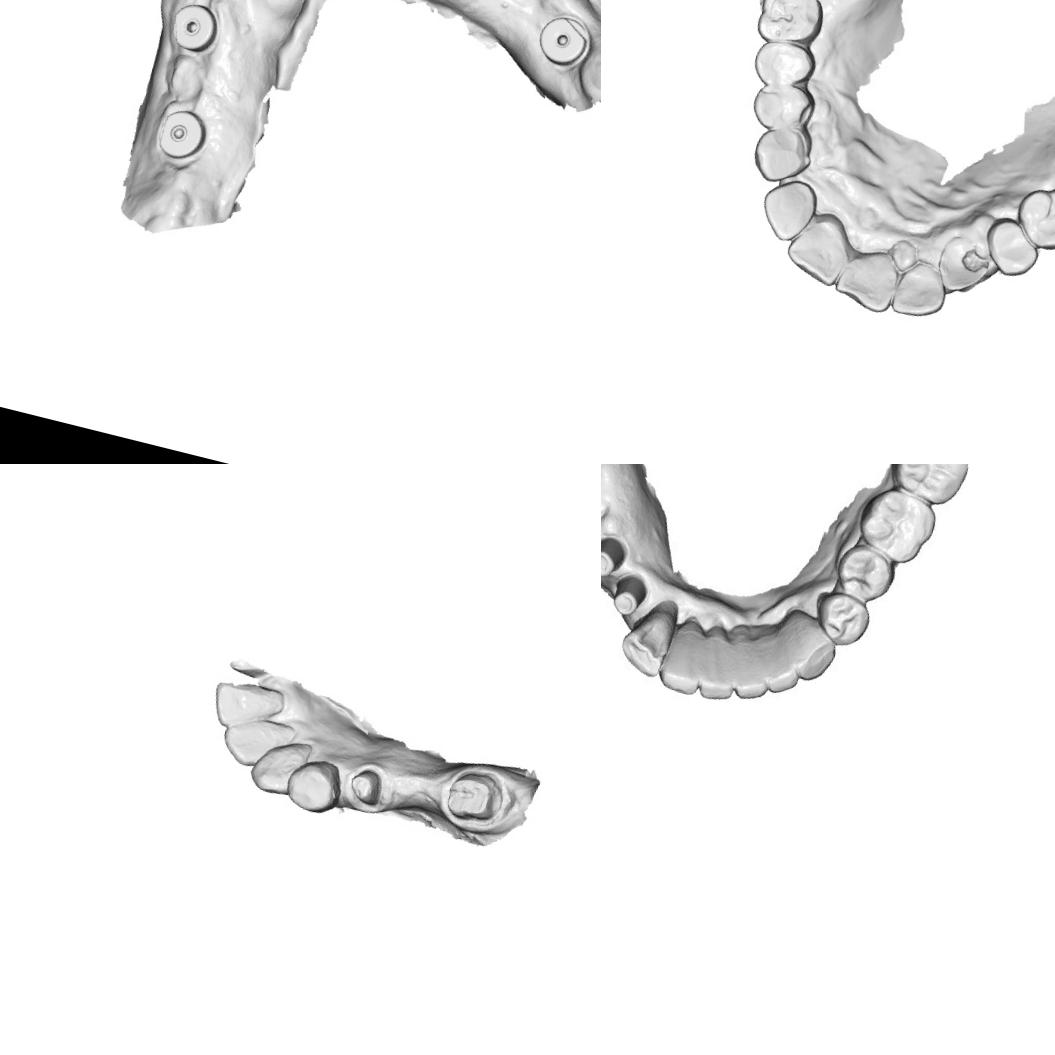abutment: (606, 562, 655, 625), (601, 528, 637, 585)
canine: (612, 592, 682, 680), (772, 605, 846, 687), (745, 120, 817, 190), (931, 231, 996, 299), (244, 736, 310, 800)
crown: (440, 762, 510, 828), (344, 762, 388, 808)
implant: (530, 8, 598, 72), (150, 104, 212, 165), (164, 0, 224, 58)
incisor: (779, 204, 858, 289), (829, 241, 903, 316), (206, 674, 287, 739), (754, 172, 822, 246), (217, 710, 293, 775), (742, 619, 807, 692), (720, 620, 779, 700), (656, 616, 714, 695), (888, 254, 952, 324), (693, 626, 746, 701)
molar: (856, 481, 942, 569), (752, 0, 829, 51), (884, 464, 972, 507)
premolar: (829, 539, 902, 606), (977, 212, 1046, 282), (746, 74, 818, 137), (282, 752, 348, 818), (748, 34, 819, 95), (1008, 182, 1055, 256), (815, 589, 874, 645)
